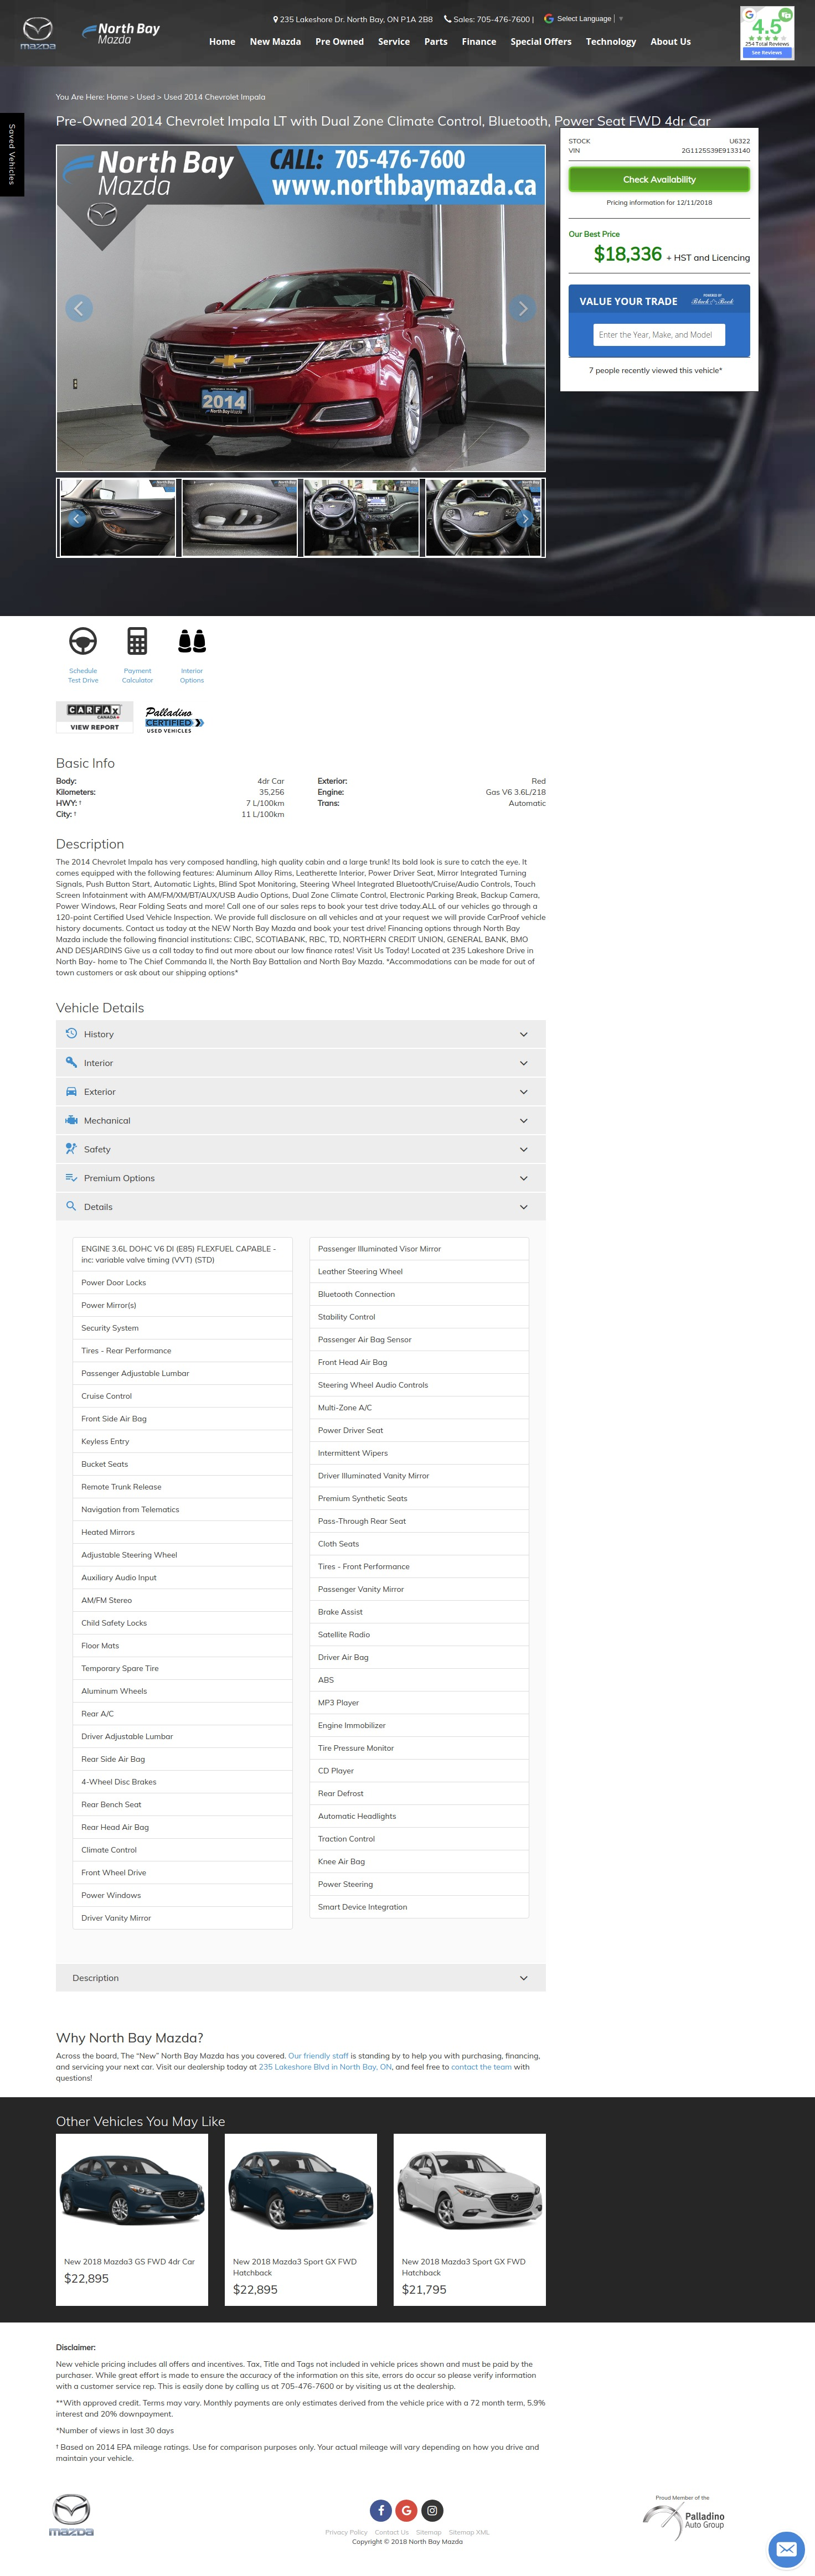car: (523, 516, 529, 524)
